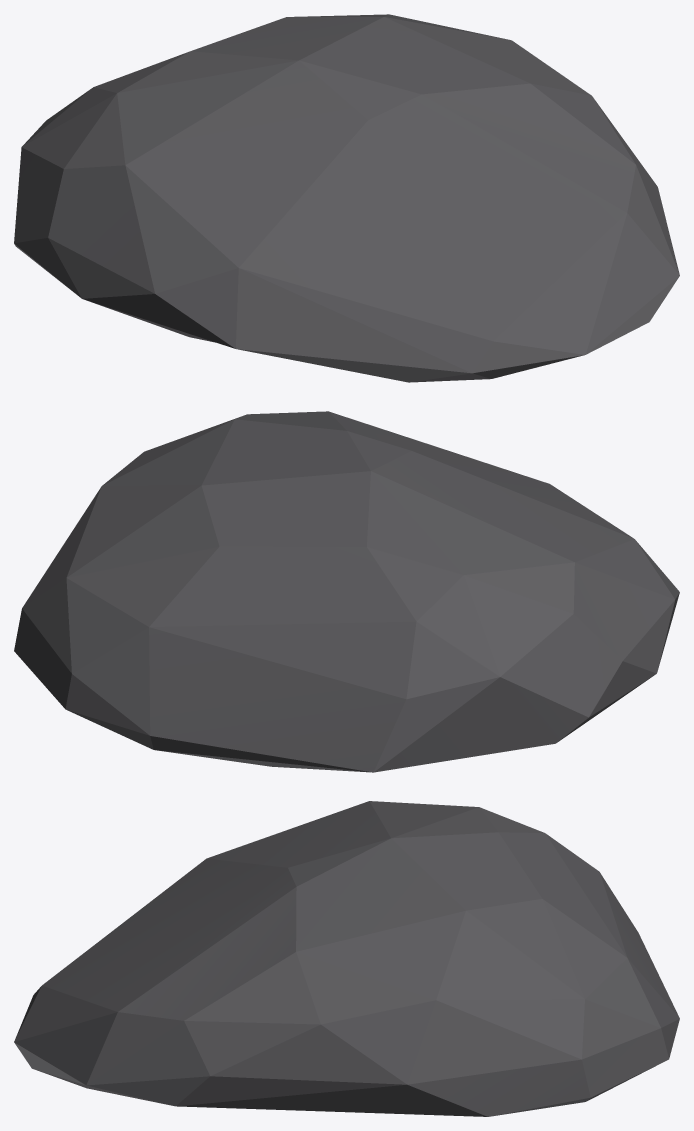
Rendered from Piedra.glb.
3 renders of one model, top to bottom at view 1: azimuth 30°, elevation 25°; view 2: azimuth 150°, elevation 25°; view 3: azimuth 270°, elevation 25°, orthographic. The views are drawn at different scales.
Parts seen in each view (by area): view 1: SM_Env_Rock_06_1; view 2: SM_Env_Rock_06_1; view 3: SM_Env_Rock_06_1.
Part boxes in pixels (x1,y1,x2,y2): SM_Env_Rock_06_1: (14,14,679,382); SM_Env_Rock_06_1: (14,411,679,772); SM_Env_Rock_06_1: (14,801,679,1116).
Bounding box in the file's own units: 1.37 × 0.5035 × 1.57.
1 material, 1 textured.
